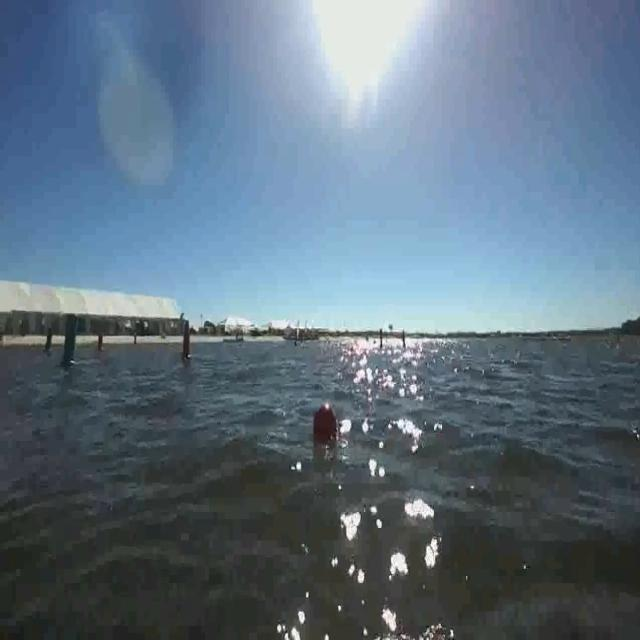green-column-buoy: (60, 316, 82, 369), (182, 316, 191, 365), (43, 328, 54, 357)
red-buoy: (312, 402, 338, 441)
red-column-buoy: (97, 333, 106, 354)
